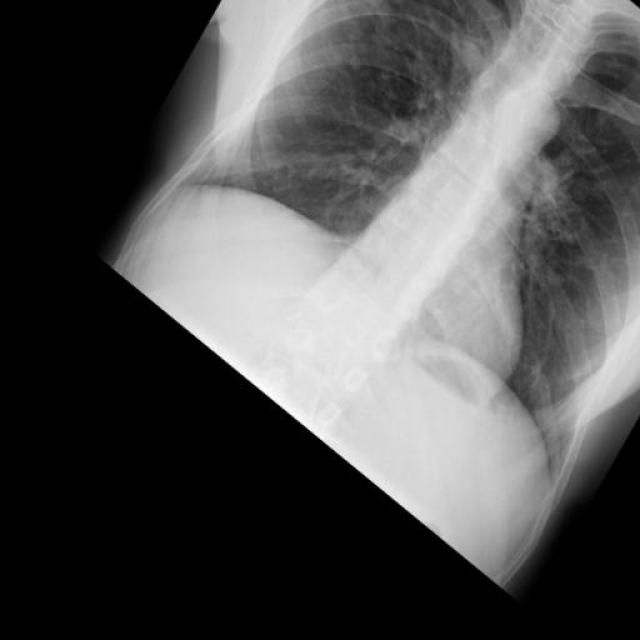tuberculosis: (69, 0, 639, 598)
